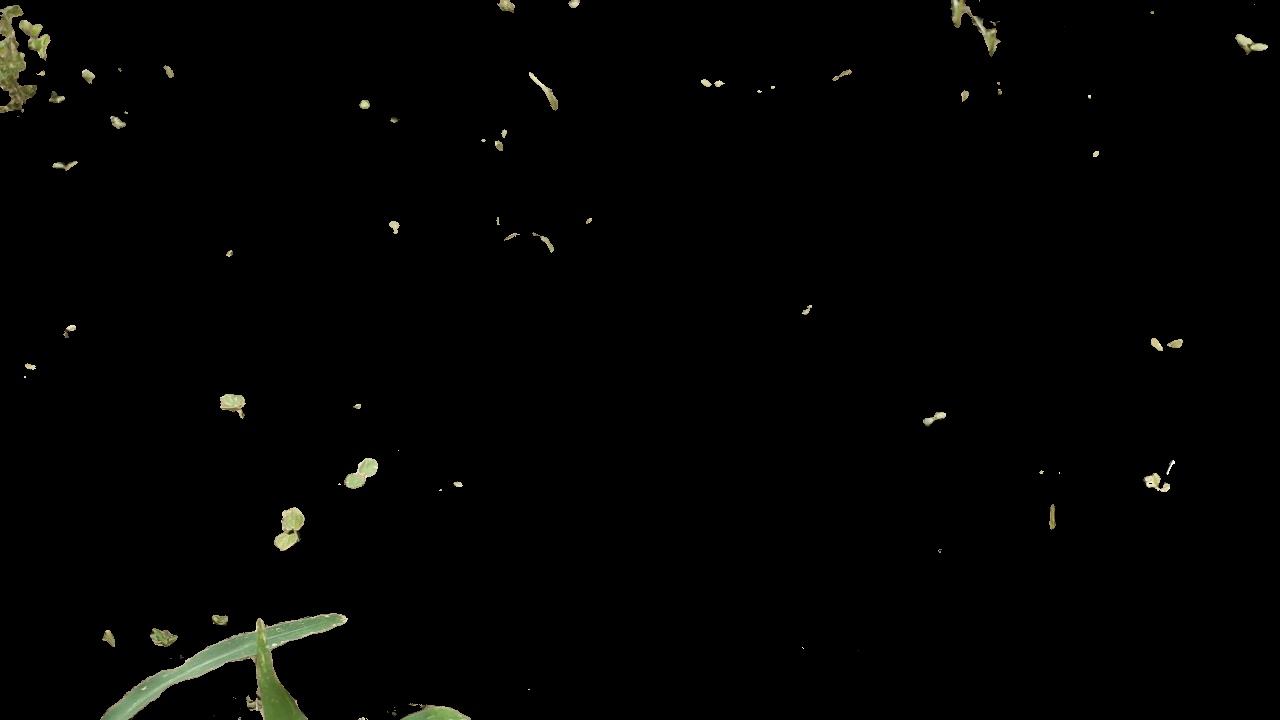crop: (101, 595, 471, 720)
weed: (1, 4, 55, 109), (333, 451, 382, 489), (269, 507, 305, 558), (211, 389, 252, 428), (1148, 321, 1188, 354), (1143, 464, 1182, 494), (1236, 31, 1271, 61), (138, 629, 179, 654), (913, 411, 959, 429)
